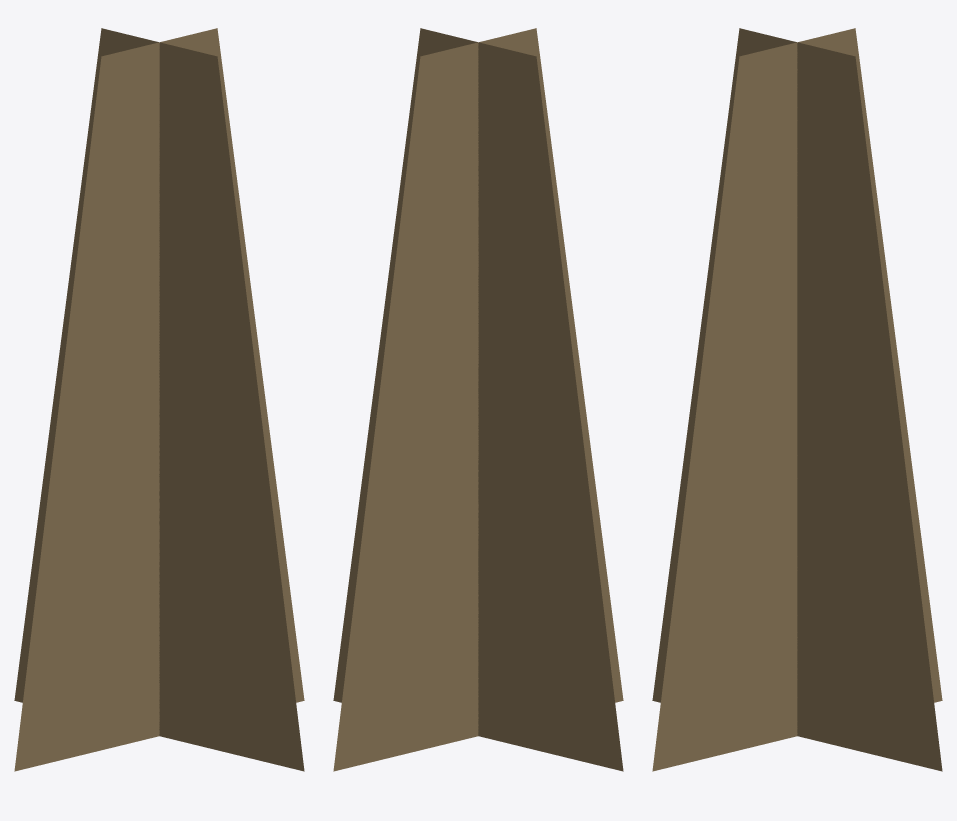
File: reed_clump_0_LOD1.glb
3 renders of one model, left to right at view 1: azimuth 30°, elevation 25°; view 2: azimuth 150°, elevation 25°; view 3: azimuth 270°, elevation 25°, orthographic.
Visible parts, largest first — view 1: LOD_Far; view 2: LOD_Far; view 3: LOD_Far.
Boxes of the visible parts, x1,y1,x2,y2 form: LOD_Far: (14, 28, 304, 771); LOD_Far: (333, 28, 623, 771); LOD_Far: (652, 28, 942, 771).
Size of the model in its own units: 0.7 by 1.6 by 0.6062.
